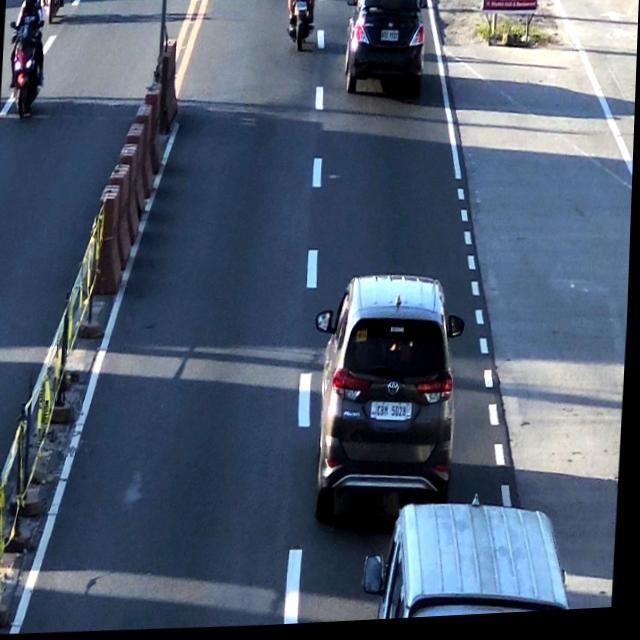Car: (320, 274, 458, 500), (342, 0, 426, 94)
Jeep: (379, 491, 578, 624)
License-Plate: (376, 399, 414, 432), (379, 31, 401, 50), (295, 4, 311, 19)
Motorcycle: (283, 0, 320, 54)
